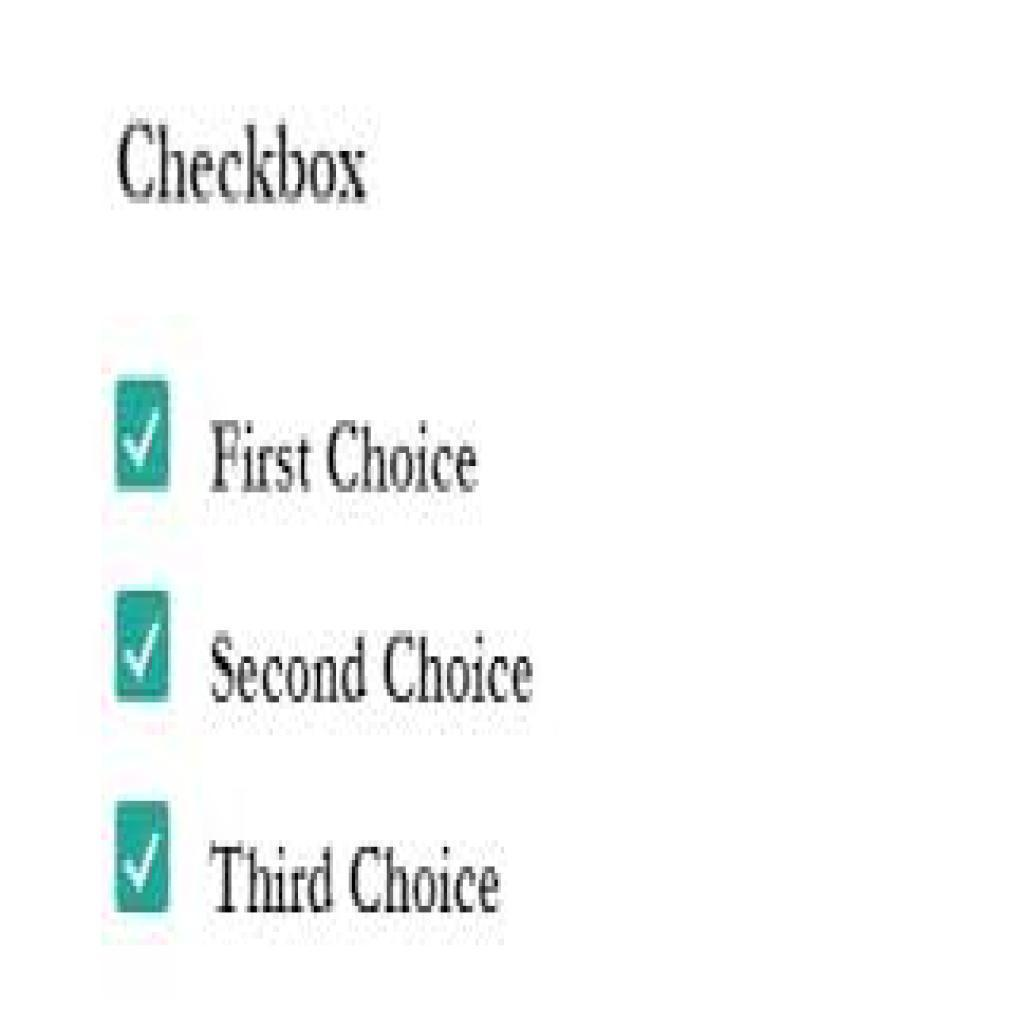checkbox: (113, 380, 172, 490), (114, 800, 169, 916), (115, 591, 172, 700)
